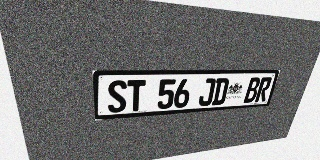5: (157, 79, 176, 109)
6: (173, 79, 192, 108)
B: (243, 77, 261, 103)
D: (211, 78, 230, 105)
J: (198, 78, 216, 106)
R: (255, 77, 273, 102)
S: (107, 80, 127, 113)
T: (127, 80, 146, 112)
